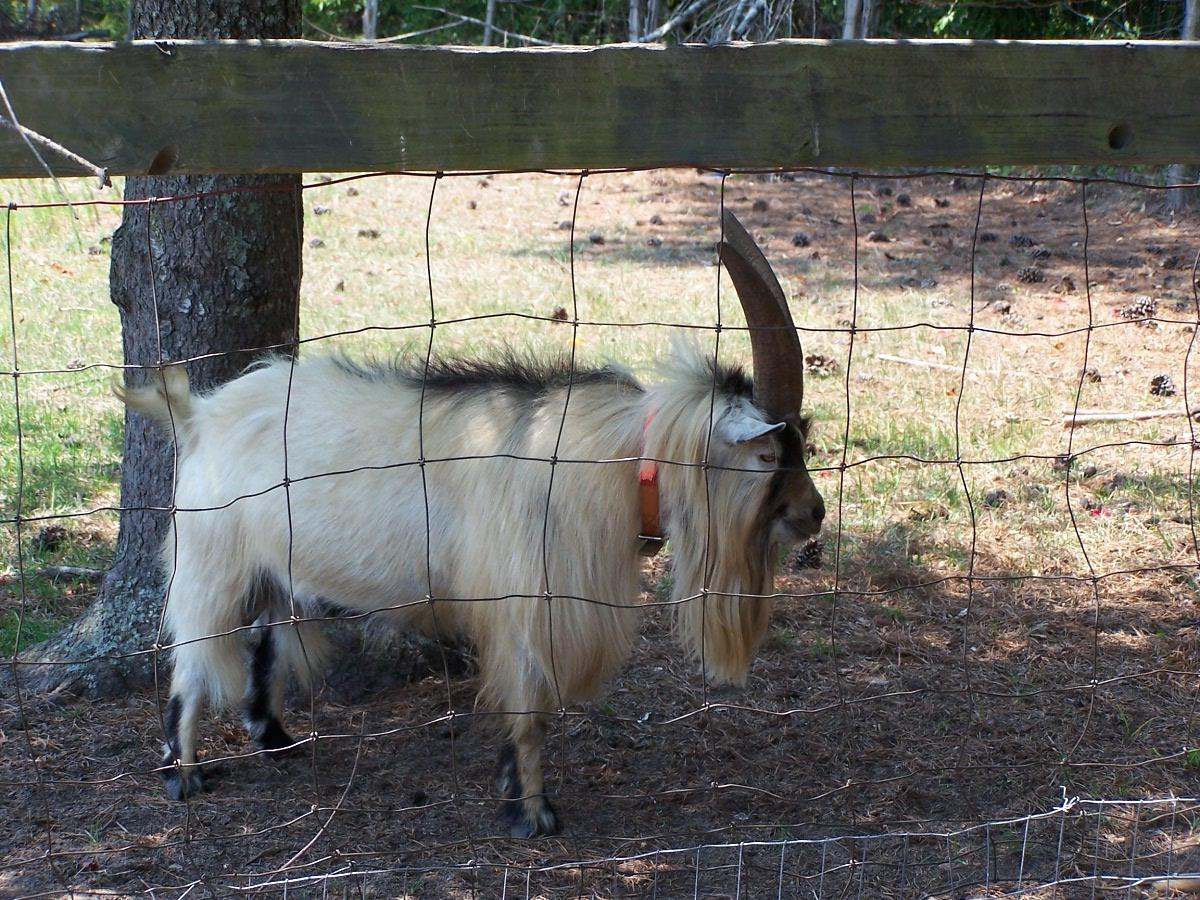goat: (107, 209, 825, 835)
